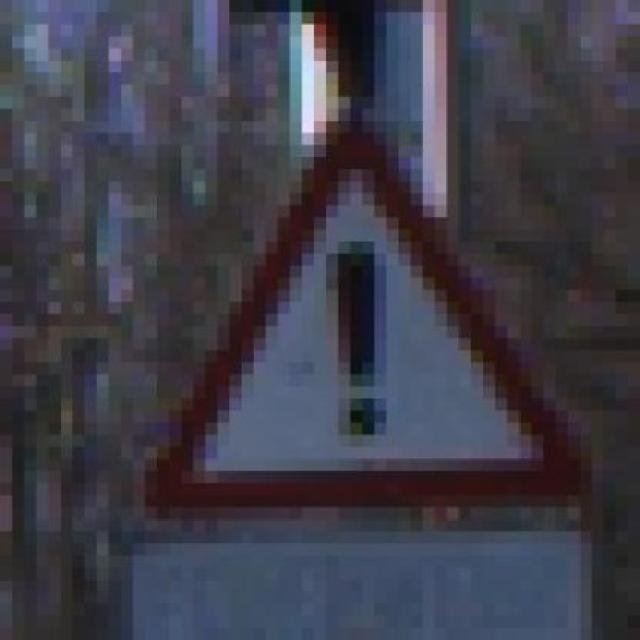Attention Please-: (109, 108, 592, 507)
